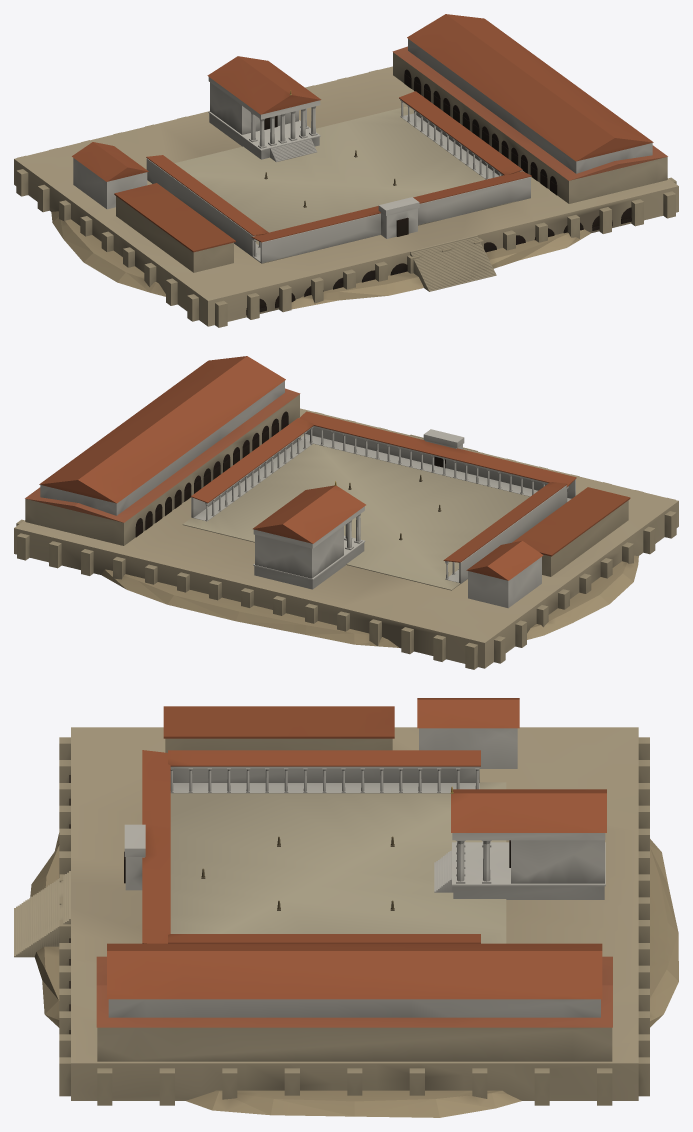
File: byrsa-forum.glb
The picture shows the model from 3 angles, top to bottom: view 1: azimuth 30°, elevation 25°; view 2: azimuth 150°, elevation 25°; view 3: azimuth 270°, elevation 25°; orthographic projection. The views are drawn at different scales.
Visible parts, largest first — view 1: p1_forum, p0_terrace, p2_roofs; view 2: p1_forum, p0_terrace, p2_roofs; view 3: p1_forum, p0_terrace, p2_roofs.
Part boxes in pixels (left/top/right/bottom): p1_forum: left=73, top=39, right=667, bottom=272; p0_terrace: left=14, top=66, right=678, bottom=327; p2_roofs: left=72, top=14, right=667, bottom=252; p1_forum: left=25, top=381, right=628, bottom=608; p0_terrace: left=14, top=408, right=678, bottom=669; p2_roofs: left=25, top=356, right=630, bottom=580; p1_forum: left=97, top=728, right=612, bottom=1061; p0_terrace: left=14, top=727, right=678, bottom=1117; p2_roofs: left=96, top=698, right=612, bottom=1027.
Bounding box in the file's own units: 233 × 38.07 × 176.
